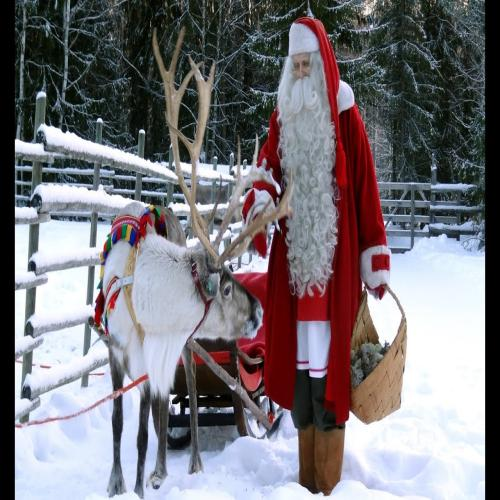Santa: (243, 15, 390, 493)
